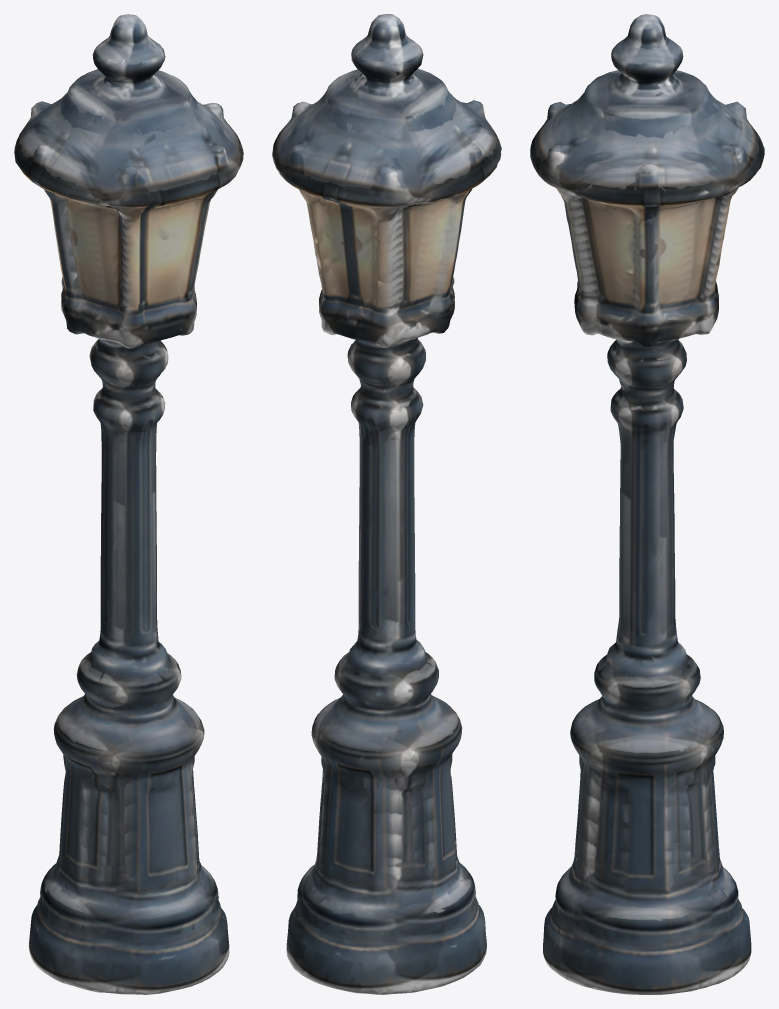
File: street-lamp.glb
3 renders of one model, left to right at view 1: azimuth 30°, elevation 25°; view 2: azimuth 150°, elevation 25°; view 3: azimuth 270°, elevation 25°, orthographic.
Parts seen in each view (by area): view 1: geometry_0; view 2: geometry_0; view 3: geometry_0.
Boxes of the visible parts, x1=… form: geometry_0: x1=14, y1=14, x2=243, y2=994; geometry_0: x1=272, y1=14, x2=501, y2=994; geometry_0: x1=530, y1=14, x2=764, y2=994.
Size of the model in its own units: 0.4292 by 1.96 by 0.4437.
Materials: 1 (1 with a texture image).
